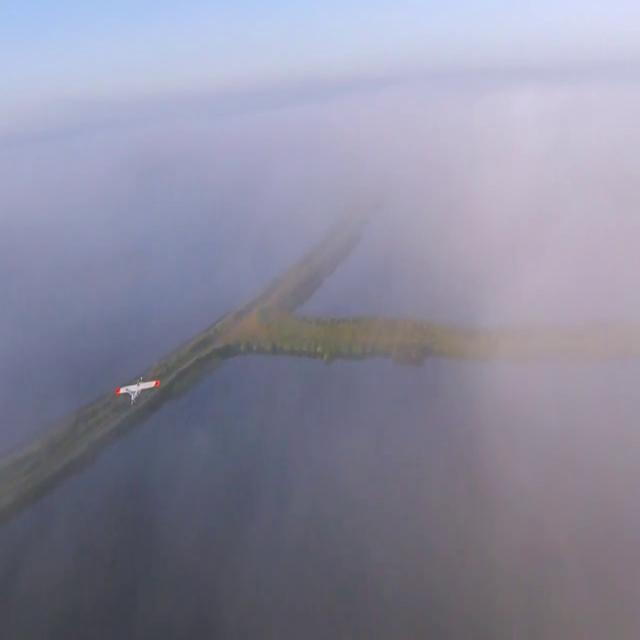iha: (108, 368, 156, 404)
